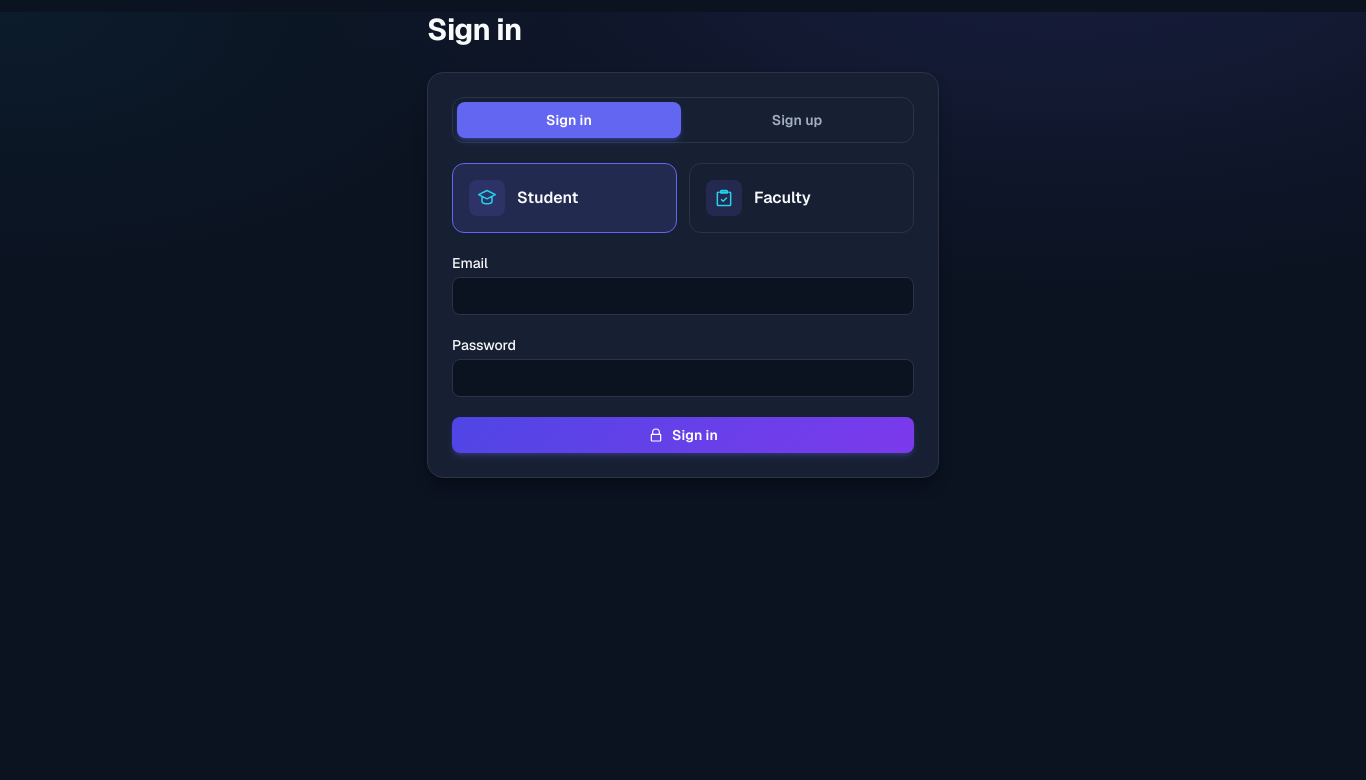
it: Sign up › switching tabs clears the passwords and errors but keeps the email and the role
Click the radio button labelled "Faculty". click: [802, 198]
box: x1=689 y1=163 x2=914 y2=233
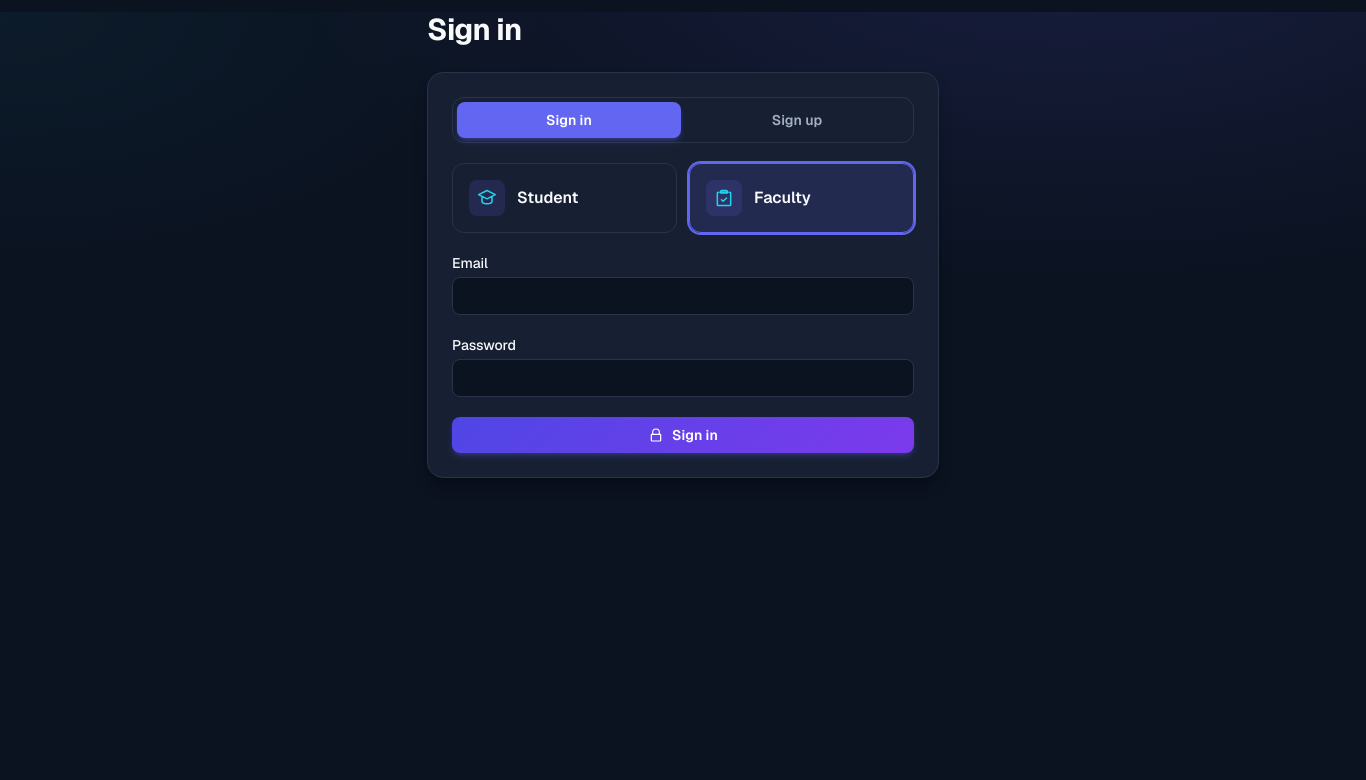
Click the tab "Sign up". click: [797, 120]
box: x1=685 y1=102 x2=909 y2=138
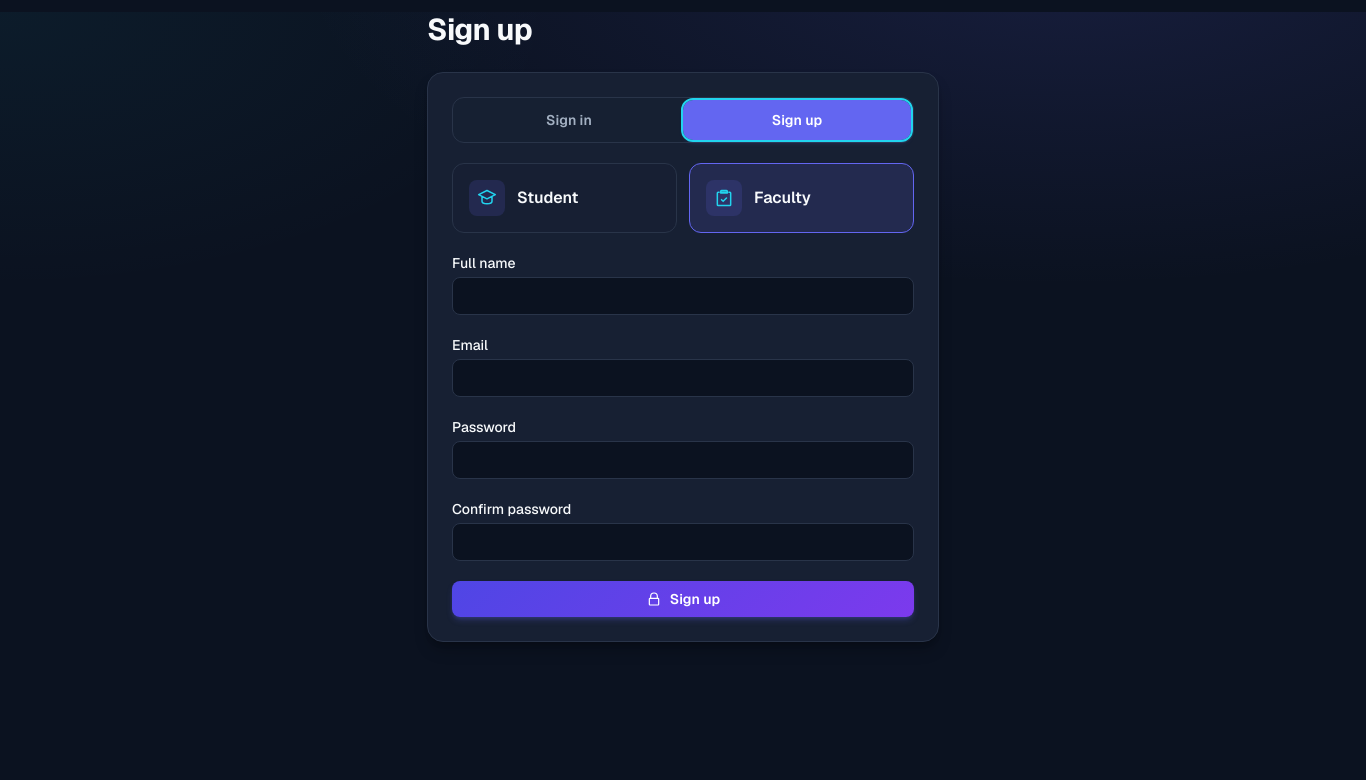
Type "dr.rao@college.edu" into the field labelled "Email". click: [683, 378]
box: x1=452 y1=359 x2=914 y2=397
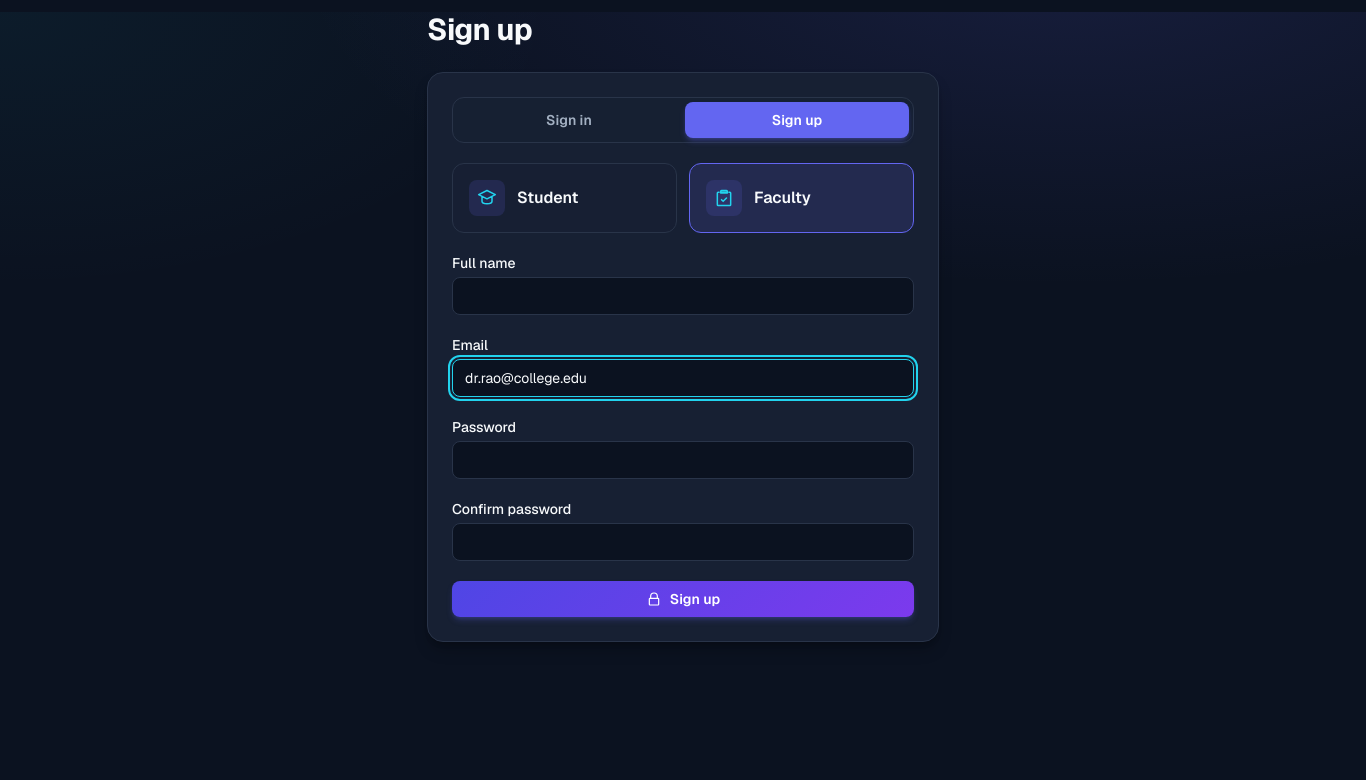
Type "secret1" into the password field labelled "Password". click: [683, 460]
box: x1=452 y1=441 x2=914 y2=479
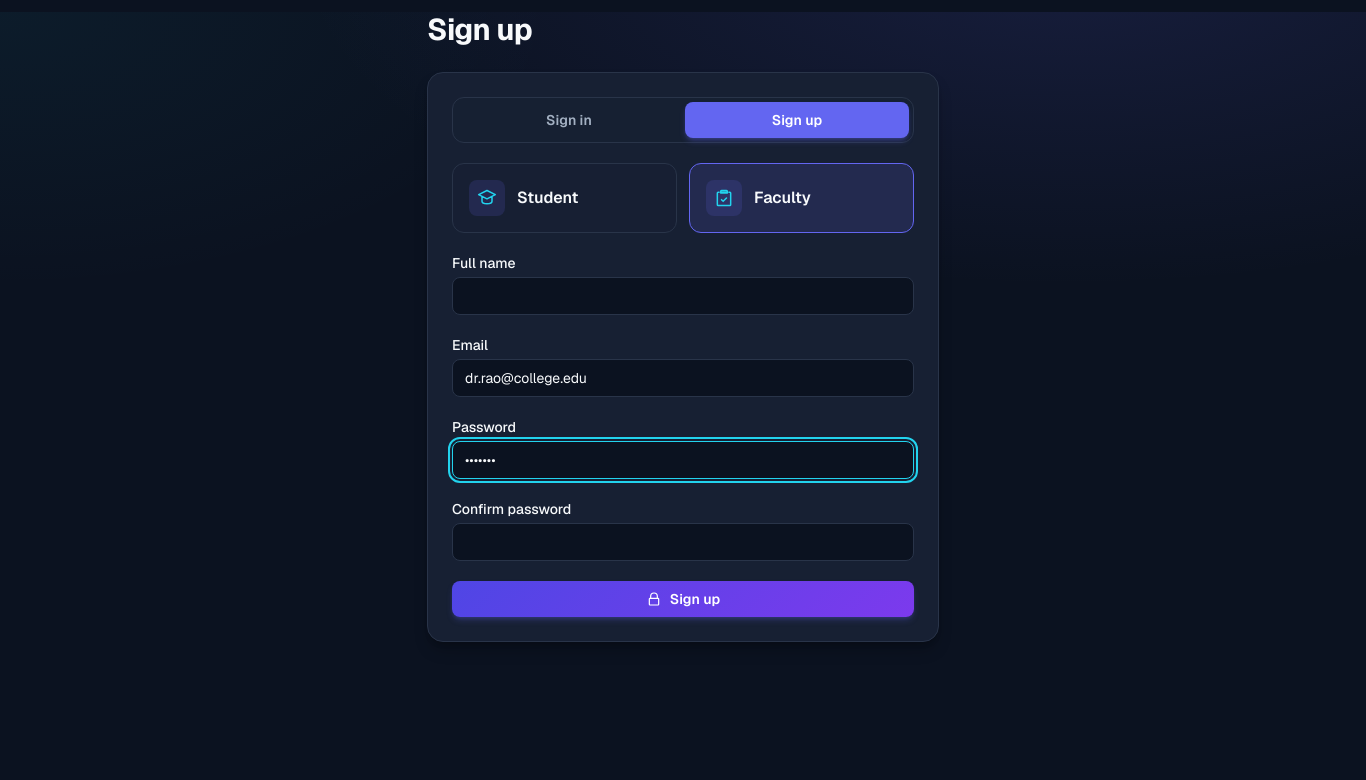
Click the button "Sign up". click: [683, 599]
box: x1=452 y1=581 x2=914 y2=617
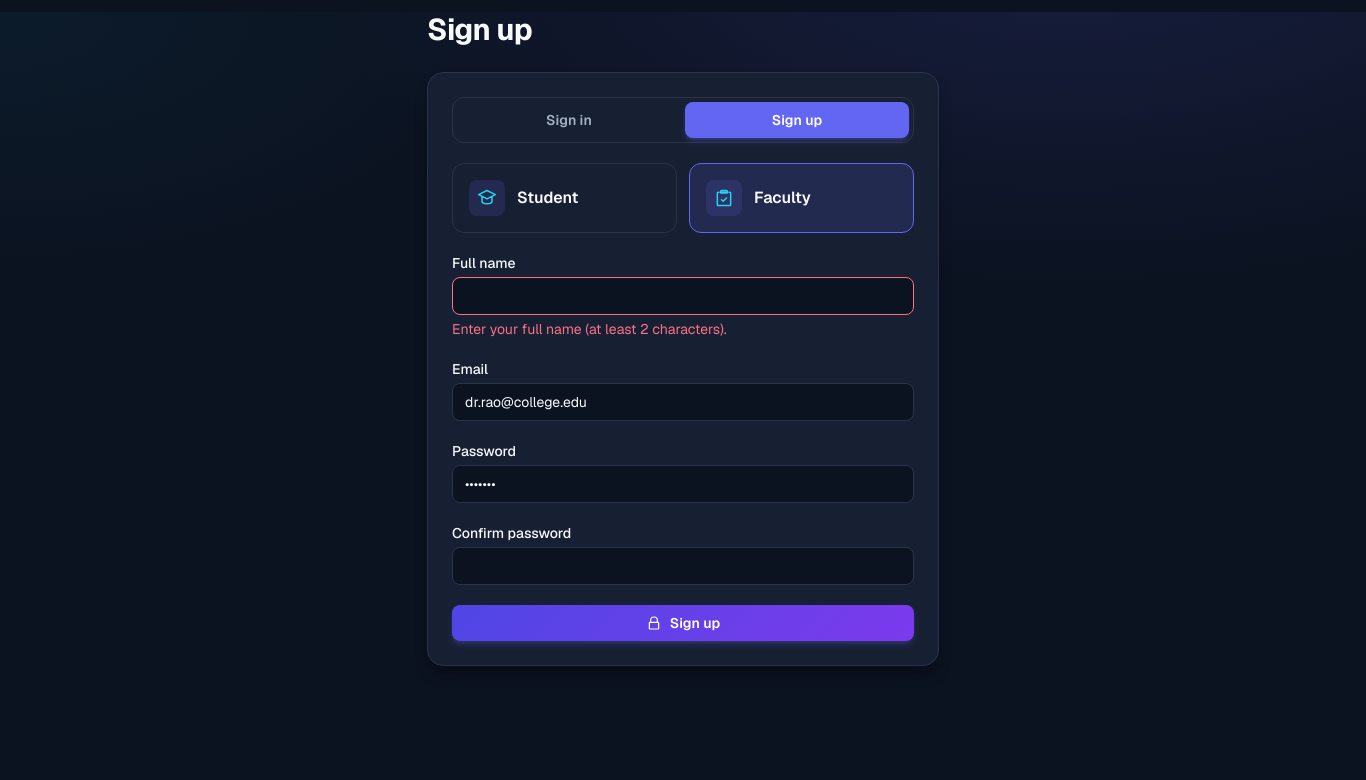
Result: the message "Enter your full name (at least 2 characters)." is shown at x1=452 y1=320 x2=727 y2=338
Click the tab "Sign in". click: [569, 120]
box: x1=457 y1=102 x2=681 y2=138
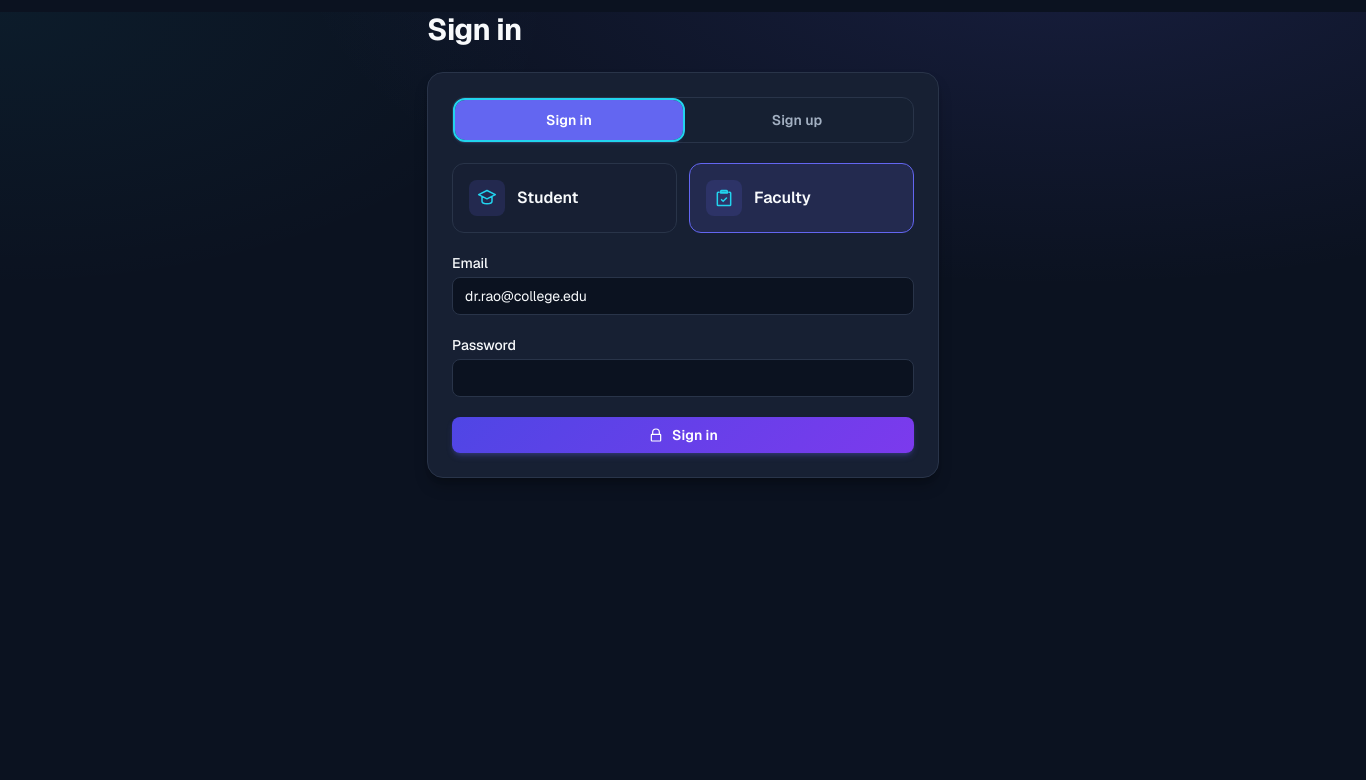
Result: the radio button labelled "Faculty" is checked at x1=689 y1=163 x2=914 y2=233
Result: the message "Enter your full name (at least 2 characters)." is gone
Result: the password field labelled "Password" is empty at x1=452 y1=359 x2=914 y2=397
